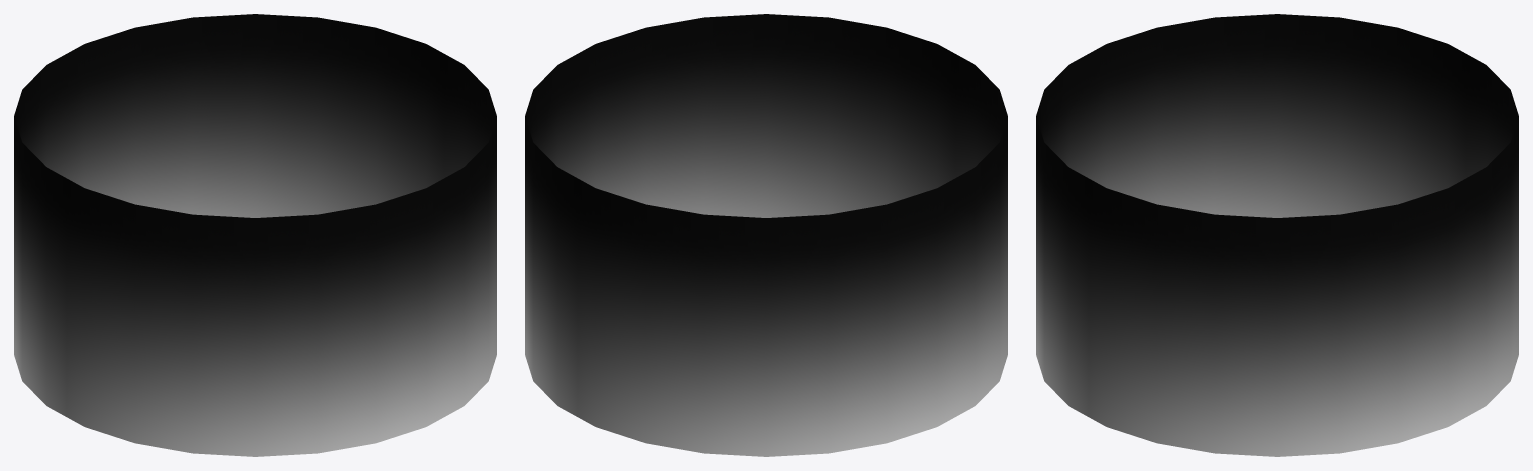
File: GradientCircle.fbx
3 views of the same model, side by side, from view 1: azimuth 30°, elevation 25°; view 2: azimuth 150°, elevation 25°; view 3: azimuth 270°, elevation 25° (orthographic).
Visible parts, largest first — view 1: Circle; view 2: Circle; view 3: Circle.
Boxes of the visible parts, x1=… form: Circle: x1=14, y1=14, x2=496, y2=456; Circle: x1=525, y1=14, x2=1007, y2=456; Circle: x1=1036, y1=14, x2=1518, y2=456.
Bounding box in the file's own units: 200 × 109 × 200.
1 material, 1 textured.
